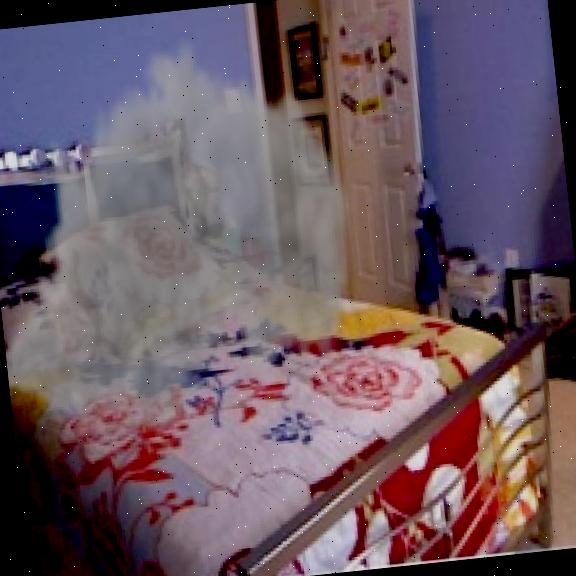smoke: (0, 16, 378, 460)
